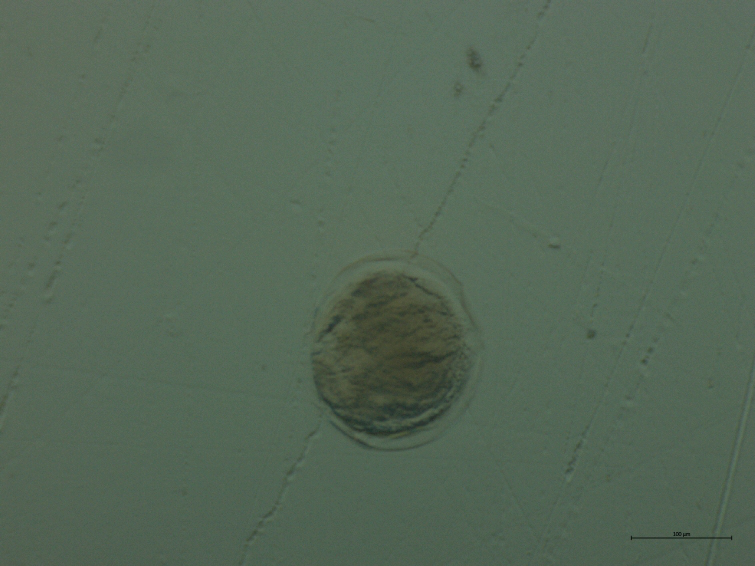oyster: (306, 244, 496, 464)
